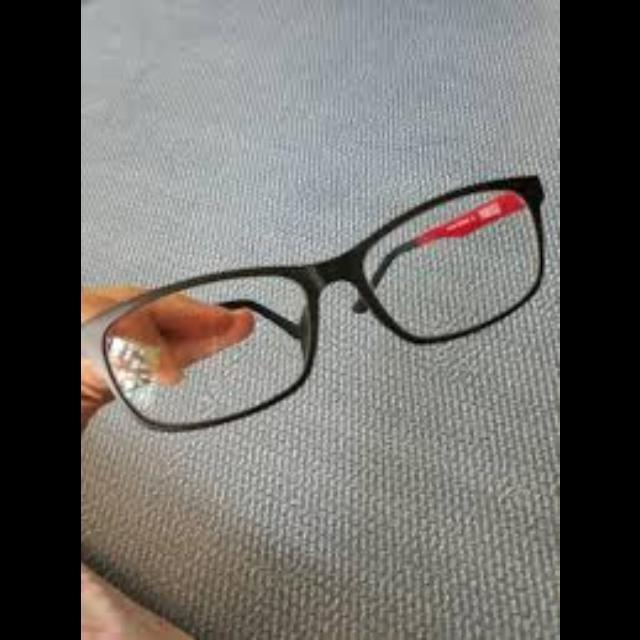glasses: (80, 174, 548, 433)
